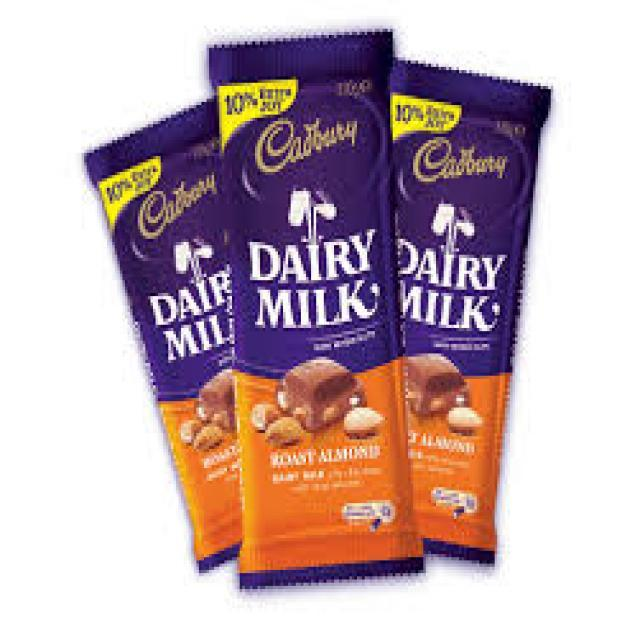cadbury_chocolate: (225, 55, 405, 585), (402, 26, 530, 596), (120, 102, 247, 573)
